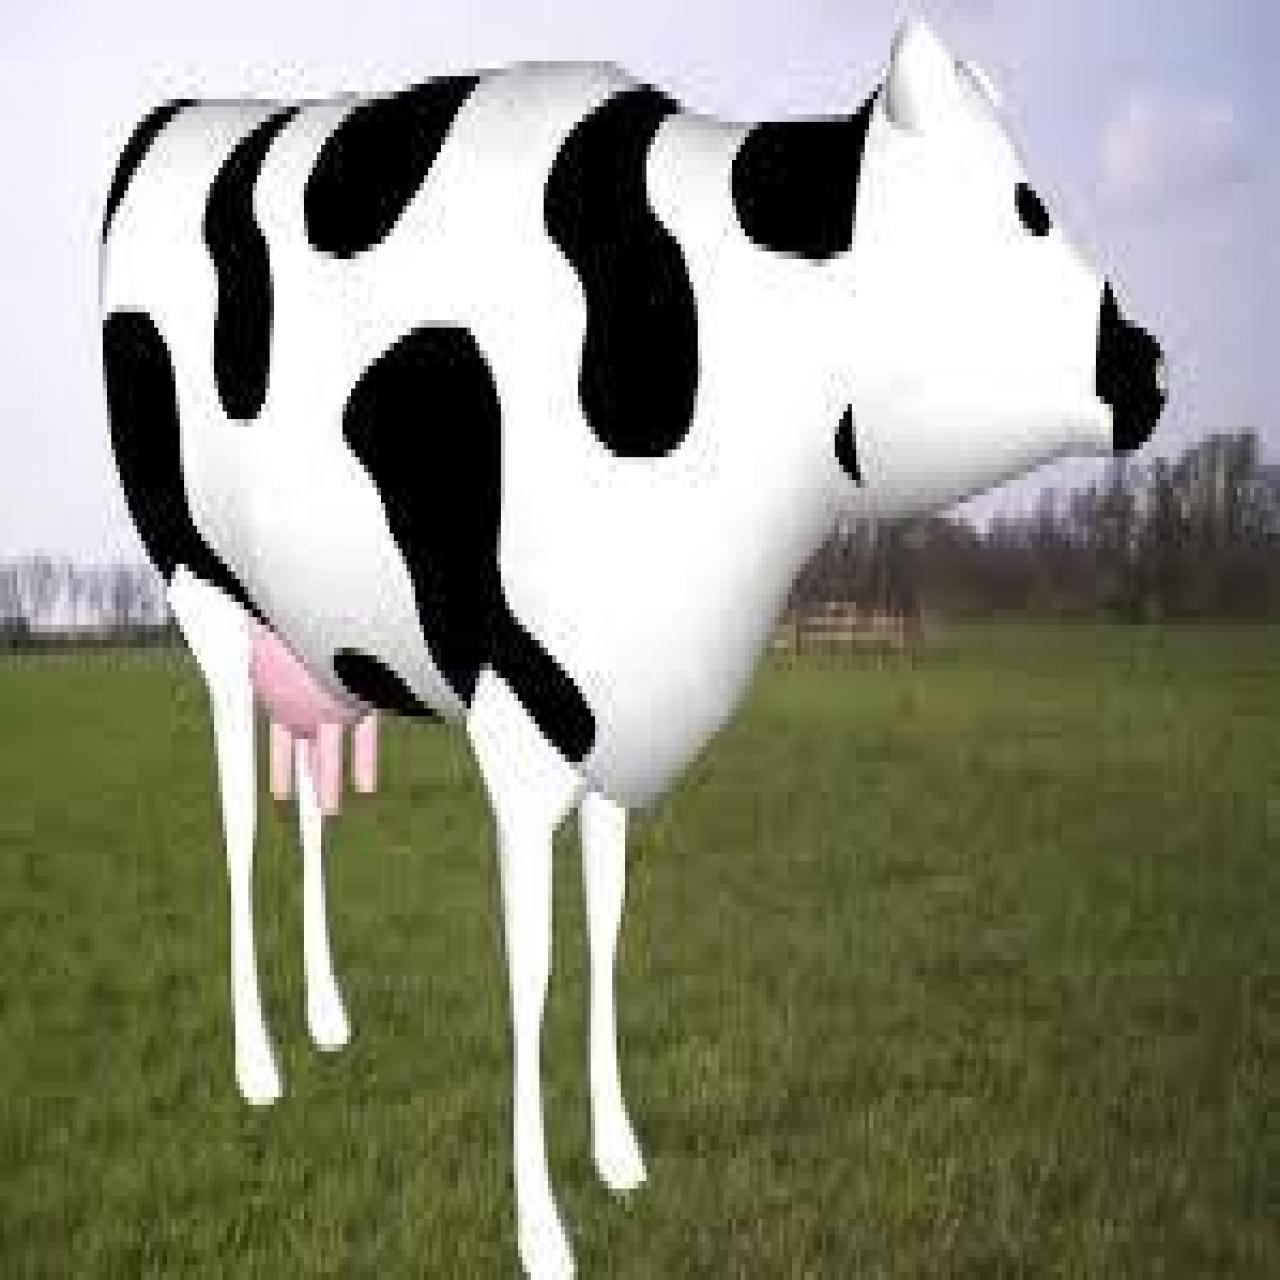cow: (94, 15, 1173, 1280)
